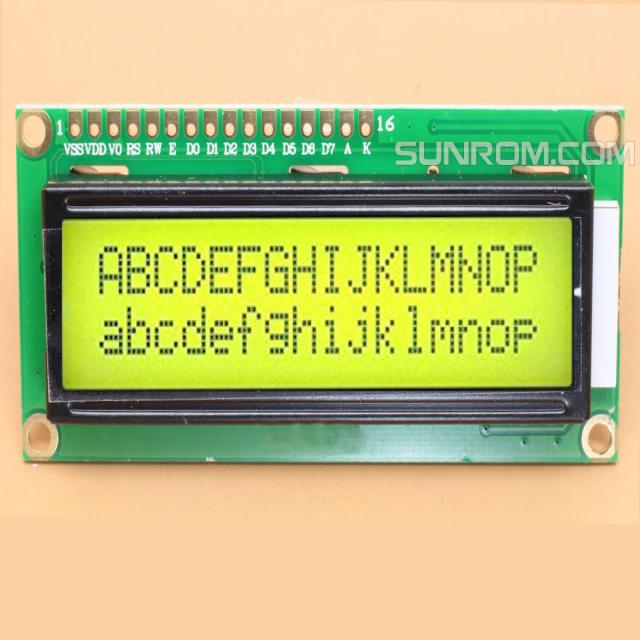Display: (9, 101, 617, 471)
